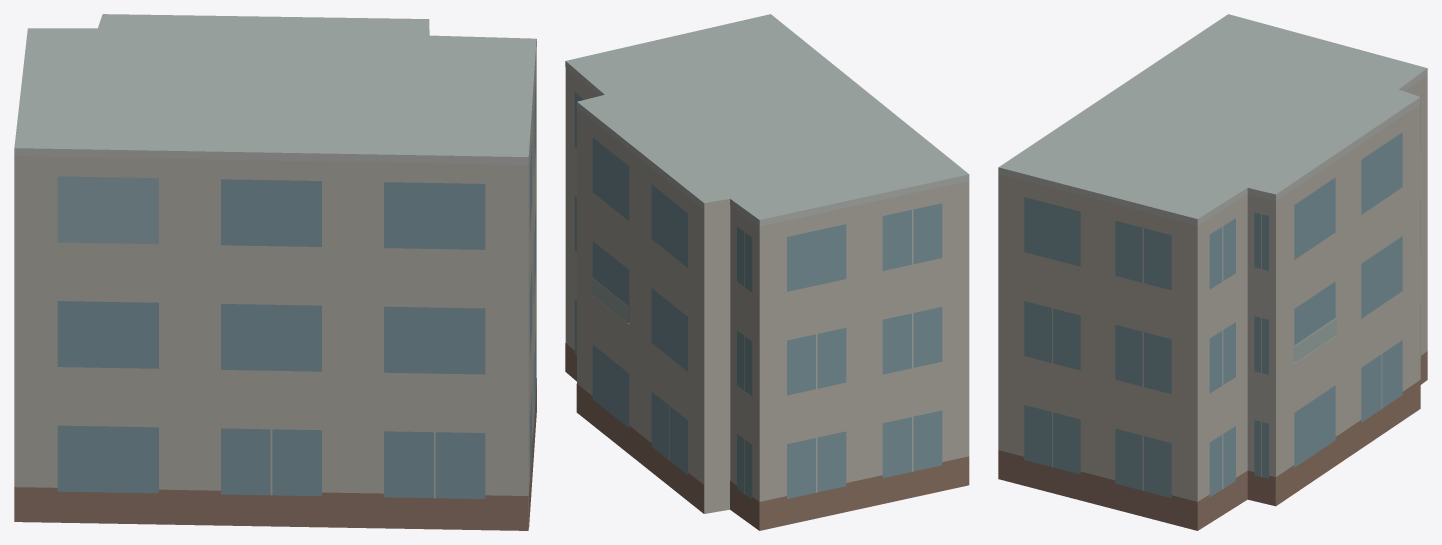
Rendered from survey-upis-33030333.glb.
The picture shows the model from 3 angles, left to right: view 1: azimuth 30°, elevation 25°; view 2: azimuth 150°, elevation 25°; view 3: azimuth 270°, elevation 25°; orthographic projection. The views are drawn at different scales.
Visible parts, largest first — view 1: survey-upis-33030333.tmp; view 2: survey-upis-33030333.tmp; view 3: survey-upis-33030333.tmp.
Part boxes in pixels (x1,y1,x2,y2): survey-upis-33030333.tmp: [14, 14, 536, 530]; survey-upis-33030333.tmp: [565, 14, 969, 530]; survey-upis-33030333.tmp: [998, 14, 1427, 530].
Bounding box in the file's own units: 16.52 × 11.7 × 14.6.
